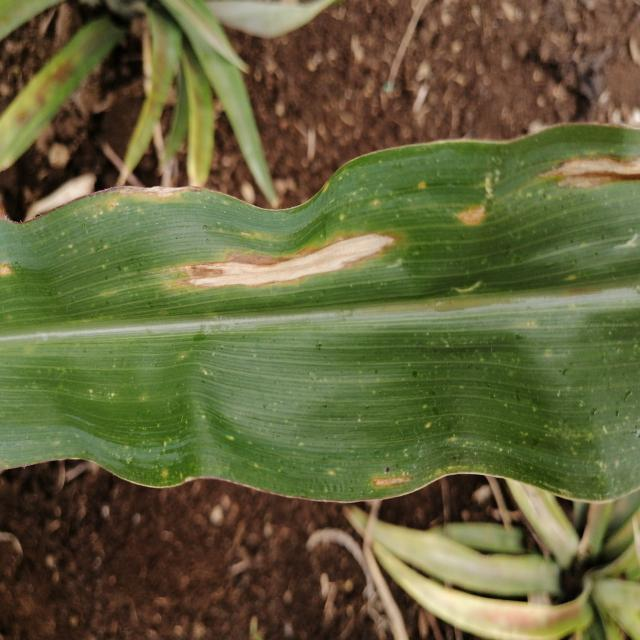Corn_Leaf_Blight: (0, 120, 640, 507)
